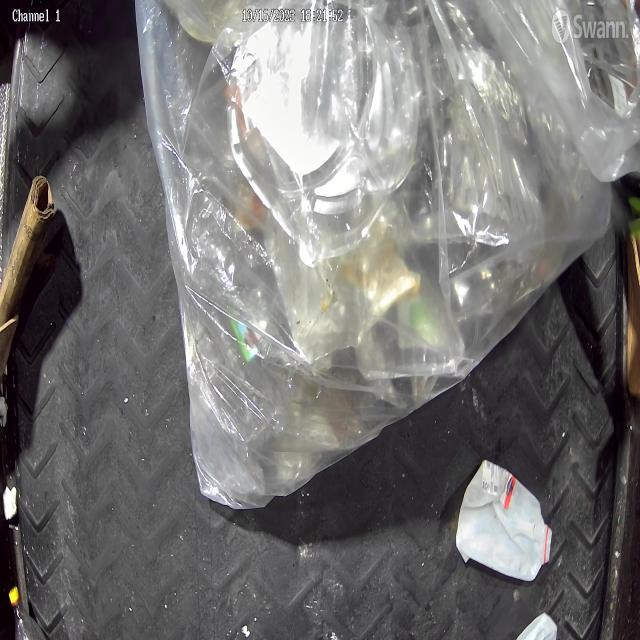milk_jug: (455, 460, 552, 584)
plastic_bottle: (8, 585, 47, 640)
